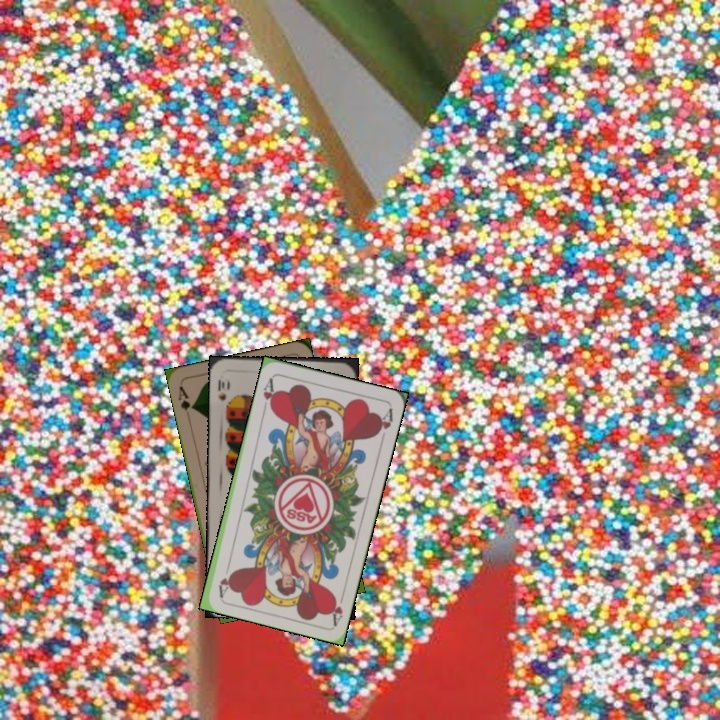GA: (174, 382, 196, 413)
HA: (326, 587, 348, 627), (259, 374, 279, 414)
S10: (214, 375, 232, 404)
